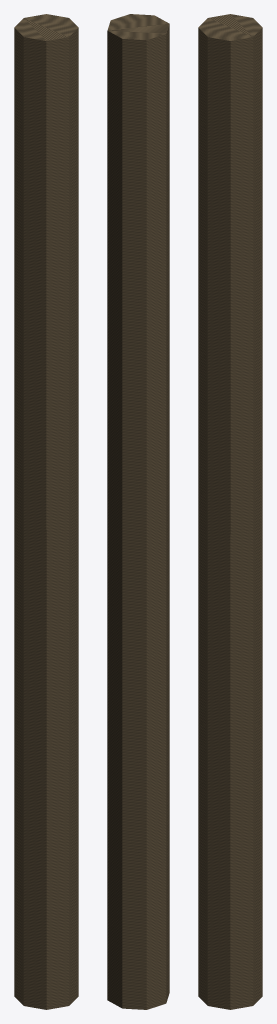
The model's file is Rope_Object.fbx.
3 views of the same model, side by side, from view 1: azimuth 90°, elevation 25°; view 2: azimuth 150°, elevation 25°; view 3: azimuth 270°, elevation 25° (orthographic).
Visible parts, largest first — view 1: Rope_Object; view 2: Rope_Object; view 3: Rope_Object.
Boxes of the visible parts, <box> form: Rope_Object: <box>14,14,78,1009</box>; Rope_Object: <box>107,14,169,1009</box>; Rope_Object: <box>198,14,262,1009</box>.
Size of the model in its own units: 0.06 by 1 by 0.06.
